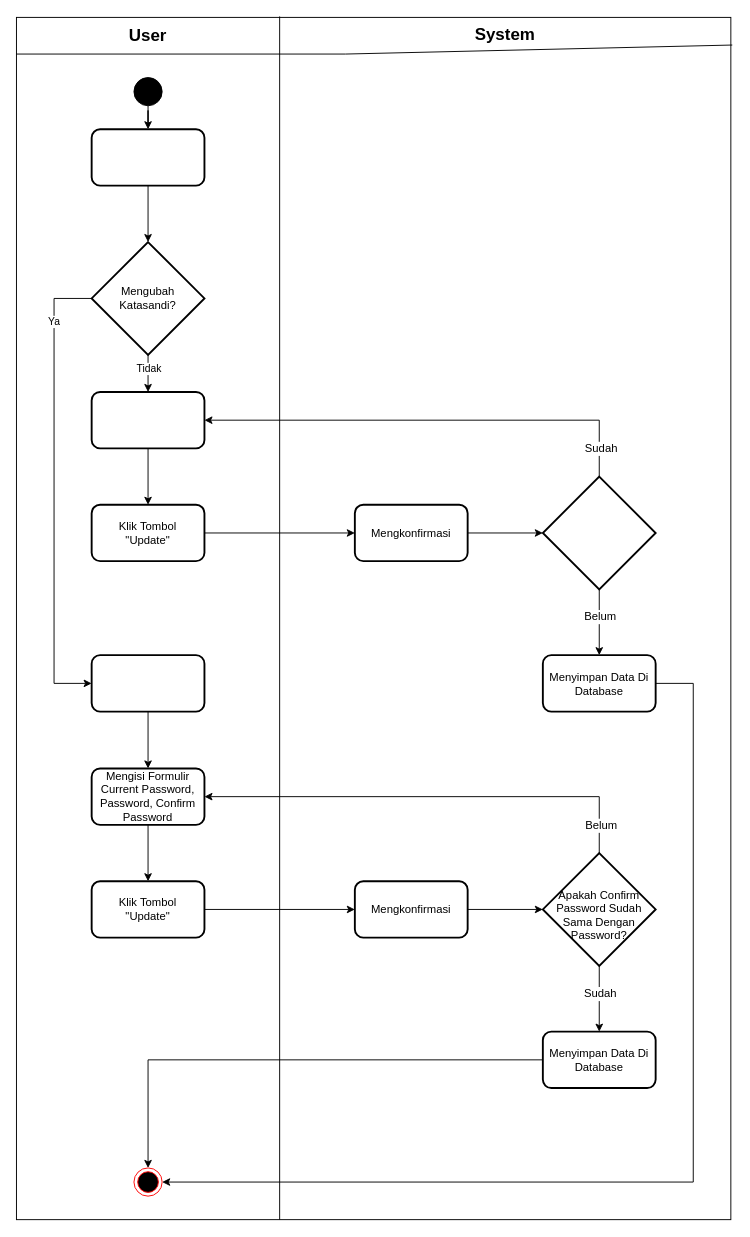
Image size: 750x1237. Some labels were removed from this diagram. The shapes that lost their labels are listed below. From the top down, each one's centre as x and y in pixels, then its label:
point 147,157: Halaman "Profile"
point 147,420: Mengisi Formulir Profil
point 598,532: Apakah Username Atau Email Sudah Dipakai?
point 147,683: Klik Tombol "Click Here!"
